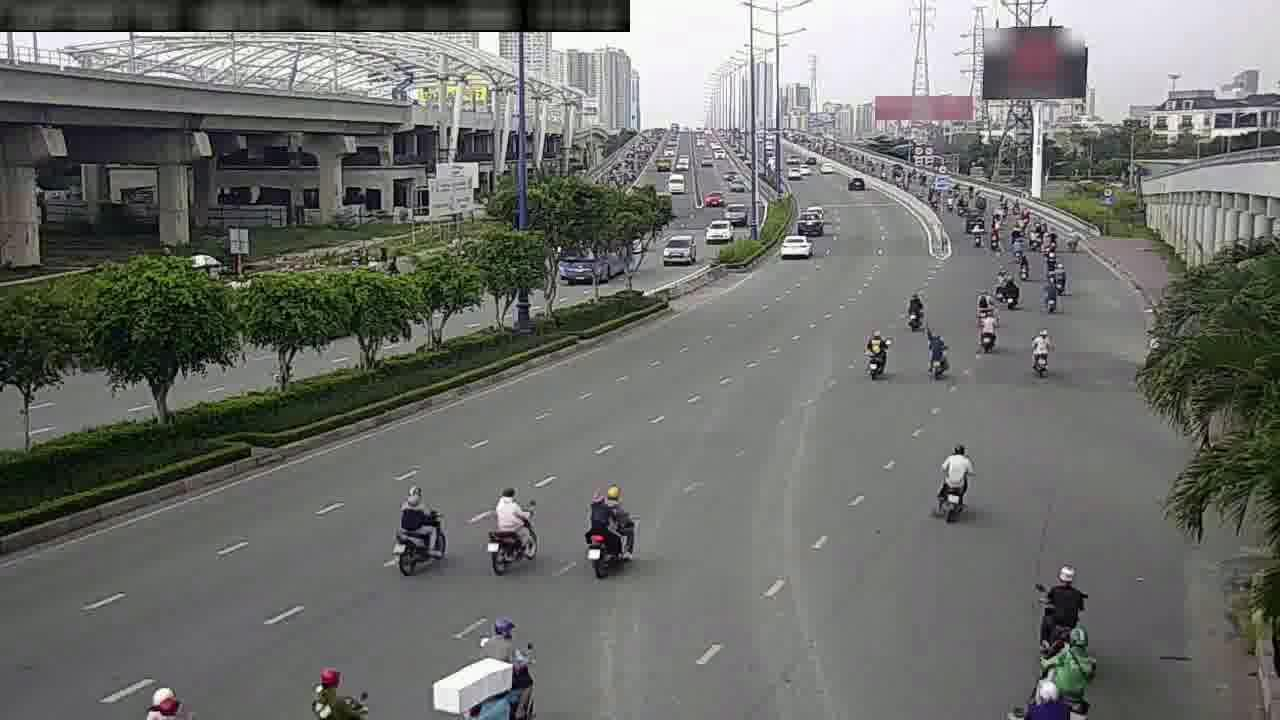container: (777, 224, 818, 265)
motorbike: (365, 485, 455, 573), (469, 627, 550, 720), (1036, 537, 1095, 651), (565, 487, 638, 578), (485, 478, 537, 586), (928, 423, 973, 534), (861, 323, 899, 375), (961, 309, 999, 360), (1025, 320, 1054, 371), (920, 324, 947, 375), (1038, 280, 1069, 314), (891, 292, 927, 319), (994, 274, 1022, 304)
